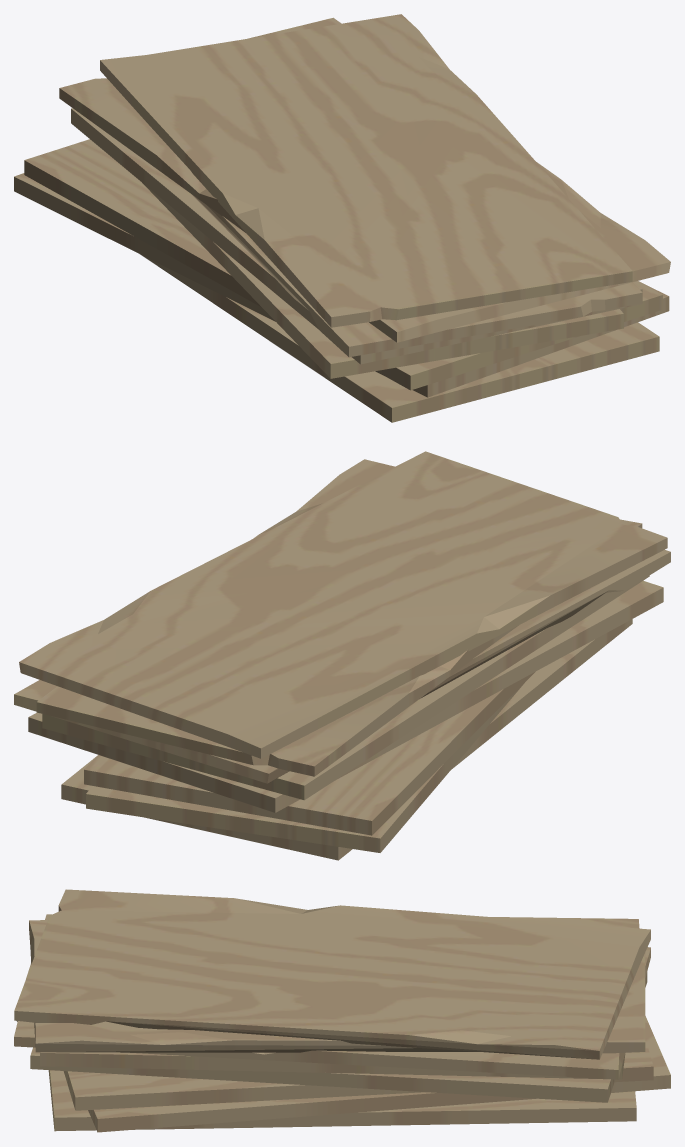
The model's file is SM_Prop_Plywood_Stack_01.obj.
3 views of the same model, one above another, from view 1: azimuth 30°, elevation 25°; view 2: azimuth 150°, elevation 25°; view 3: azimuth 270°, elevation 25° (orthographic). The views are drawn at different scales.
Parts seen in each view (by area): view 1: SM_Prop_Plywood_Stack_01_0; view 2: SM_Prop_Plywood_Stack_01_0; view 3: SM_Prop_Plywood_Stack_01_0.
Part boxes in pixels (x1,y1,x2,y2): SM_Prop_Plywood_Stack_01_0: [14, 14, 670, 422]; SM_Prop_Plywood_Stack_01_0: [14, 451, 670, 860]; SM_Prop_Plywood_Stack_01_0: [14, 889, 670, 1132].
Bounding box in the file's own units: 1.85 × 0.5217 × 3.06.
1 material, 1 textured.
